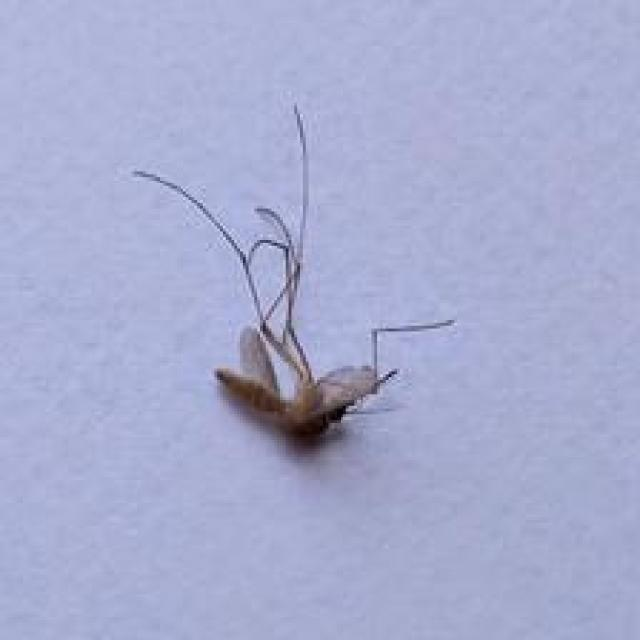Culex: (130, 102, 456, 444)
